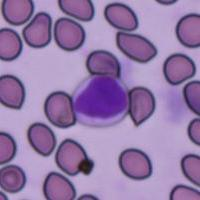L: (70, 73, 129, 127)
